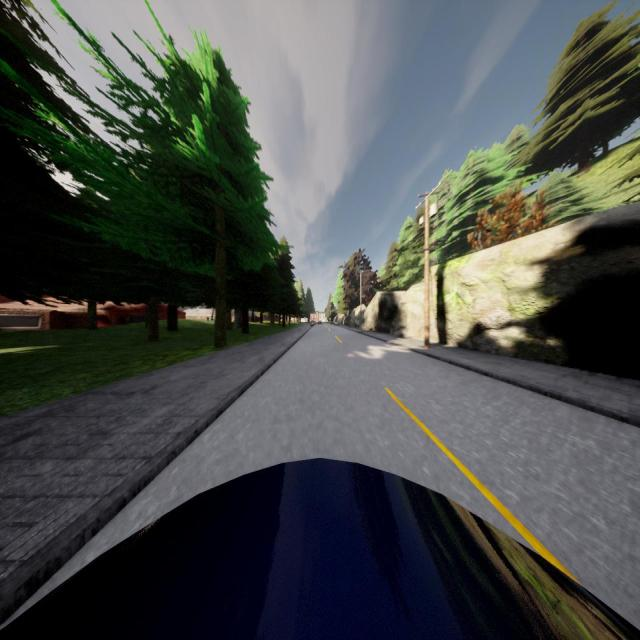Vehicle: (0, 459, 640, 640), (318, 320, 322, 325)
